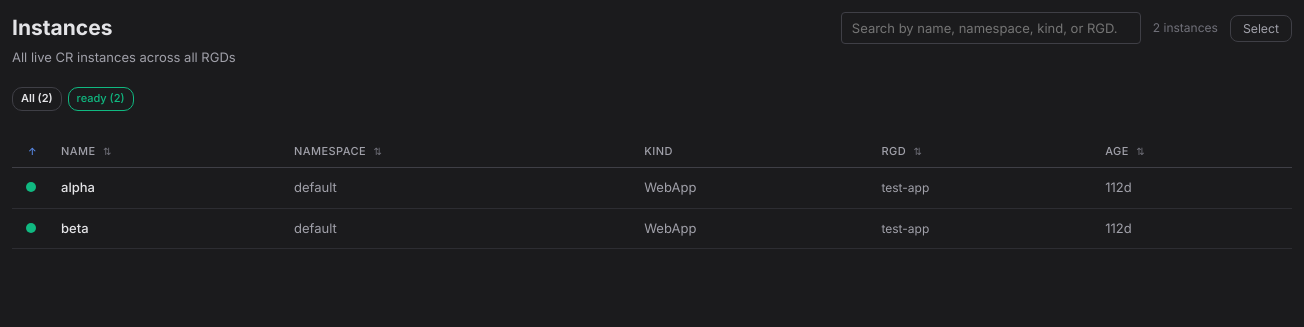
Test: InstancesPage bulk operations (spec issue-536) › "Select all" selects all visible rows
The image size is (1304, 327).
What coordinates should you click on to do the following:
click the button with test id "instances-select-btn"
I would click on:
 (1261, 28)
Its box is [1230,14,1292,42].
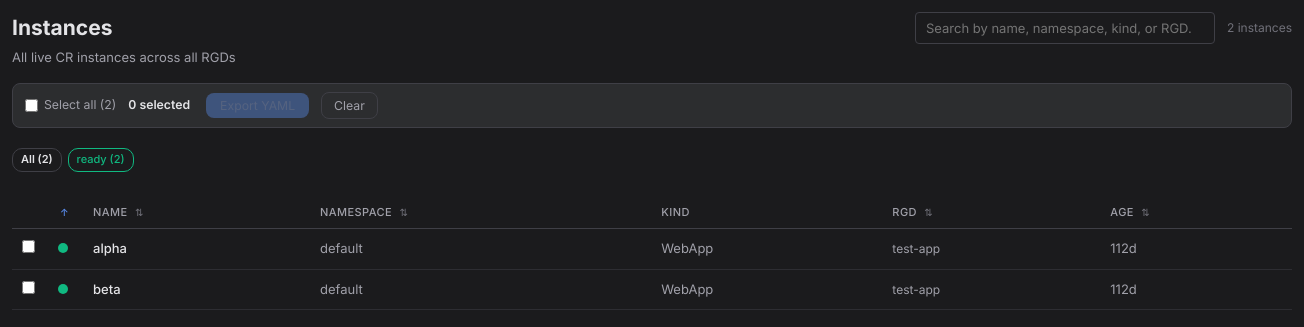
What coordinates should you click on to do the following:
click the checkbox labelled "Select all (2)"
I would click on:
 (32, 106)
Its box is [25,99,38,112].
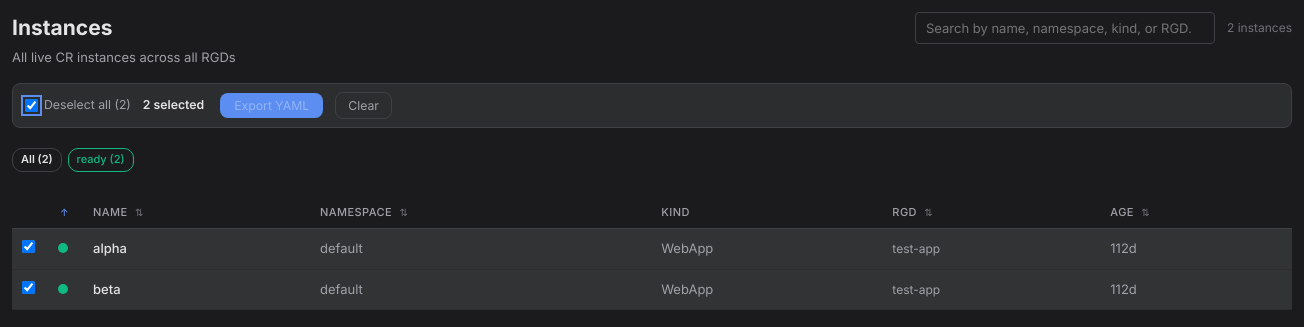
Result: the text with test id "instances-selection-count" reads "2 selected" at [143,96,204,115]
